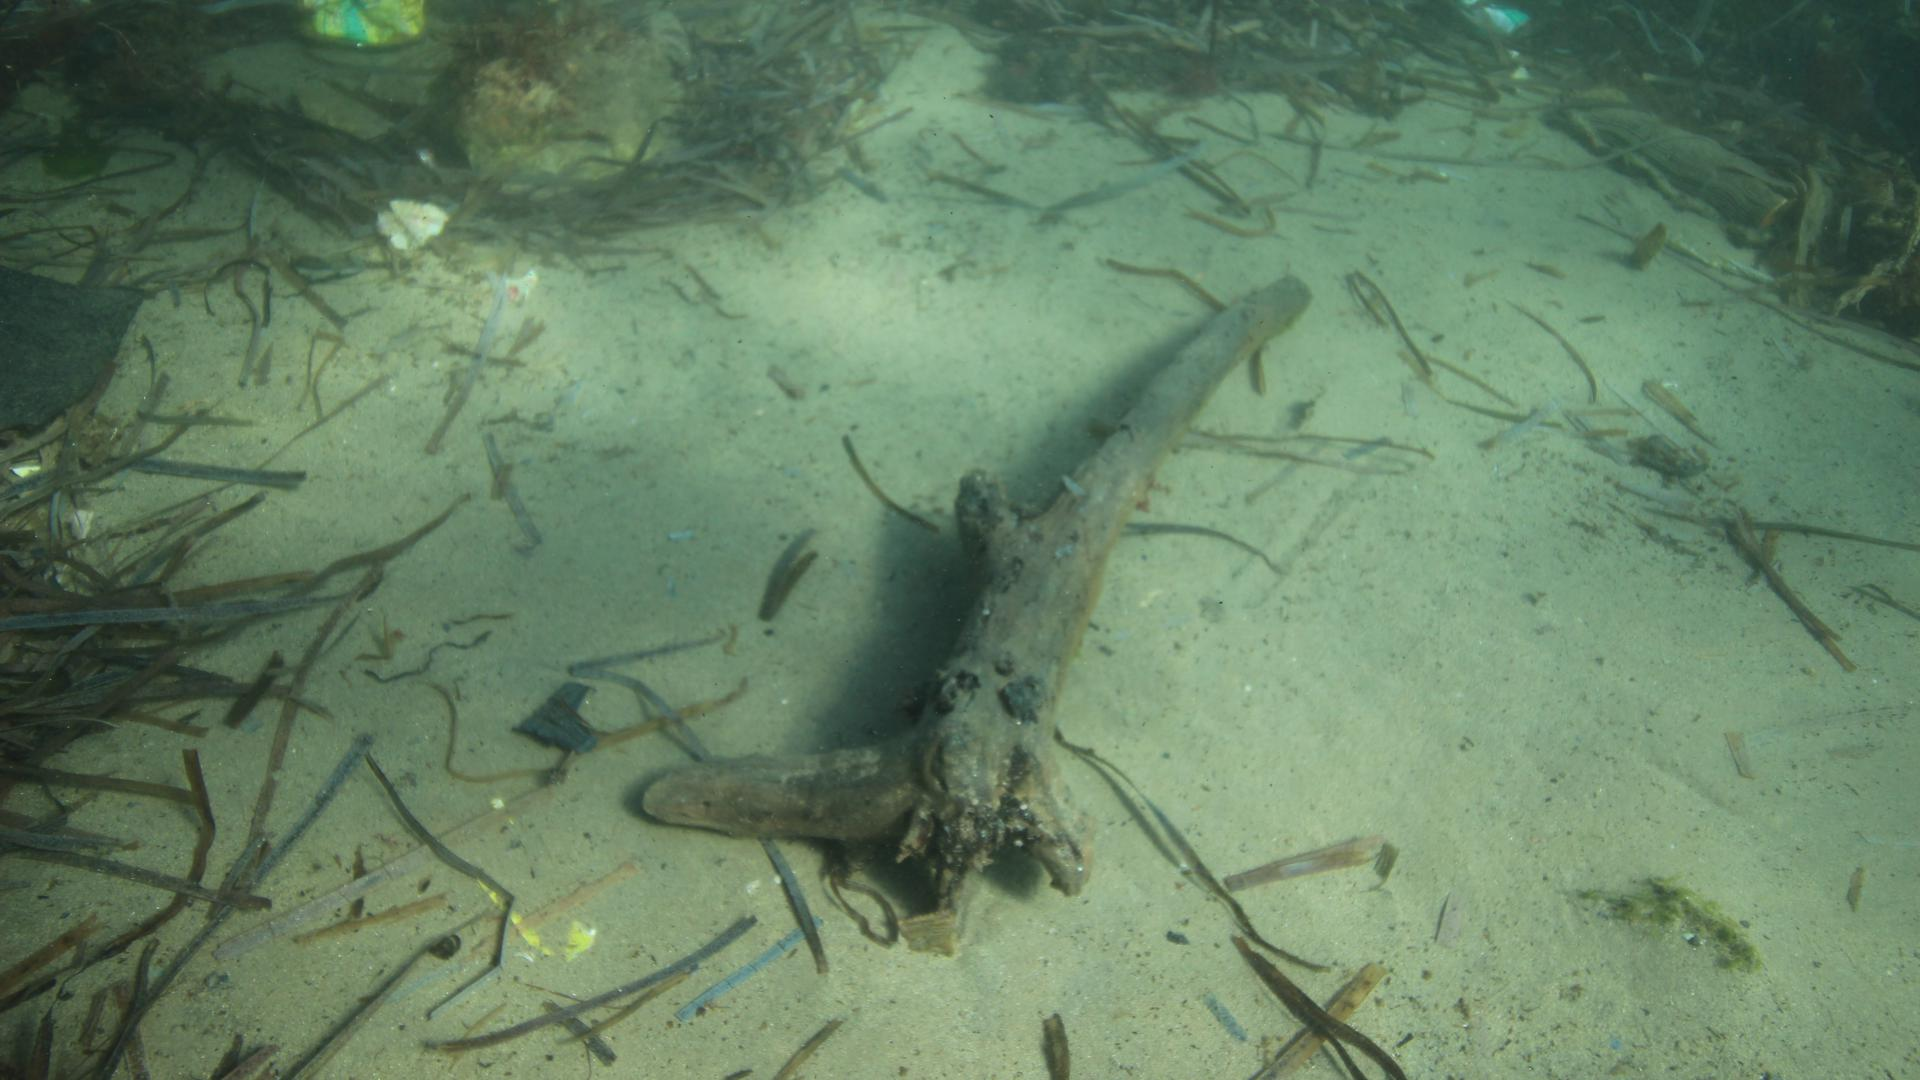wood: (640, 276, 1308, 895)
